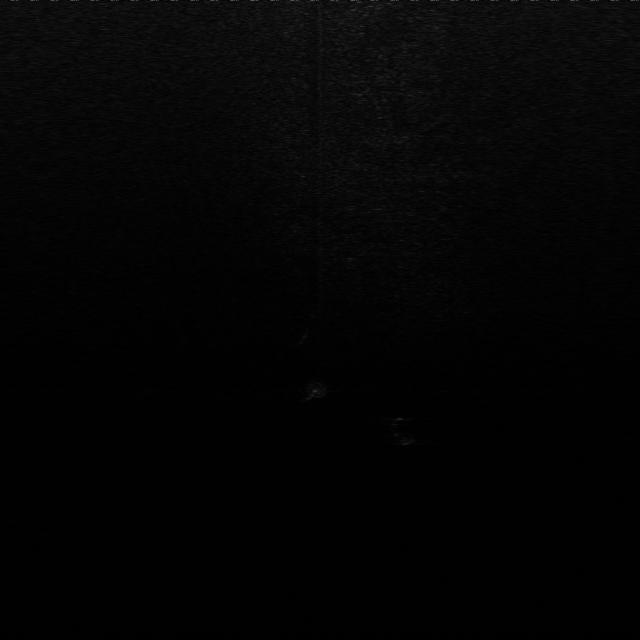circle cage: (300, 376, 332, 404)
tyre: (381, 411, 423, 449)
